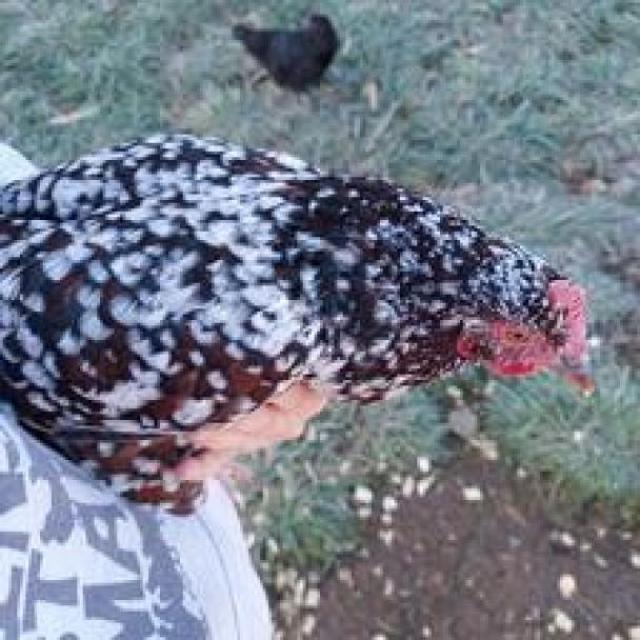Chicken: (0, 119, 612, 509)
